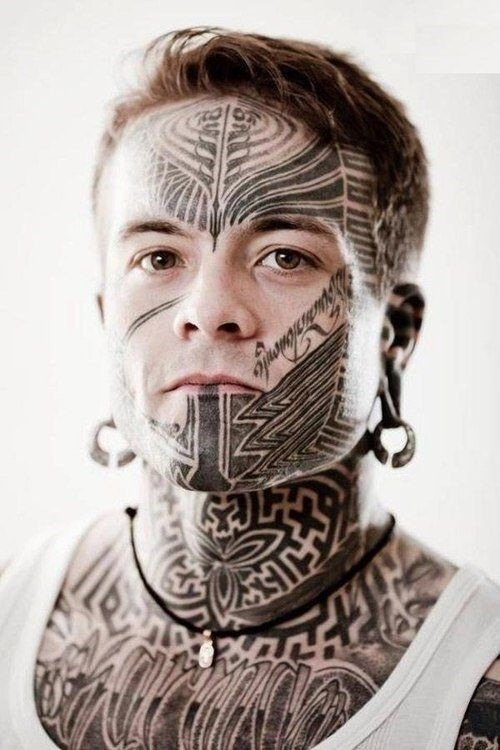face_no_mask: (91, 35, 429, 491)
